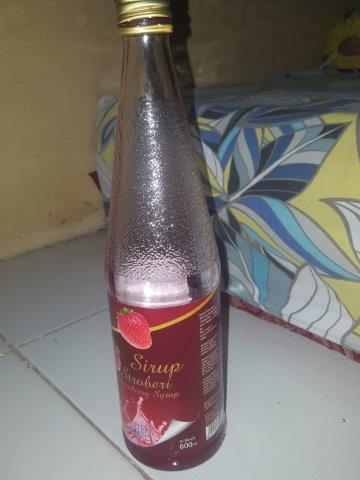botolkaca: (105, 1, 225, 471)
